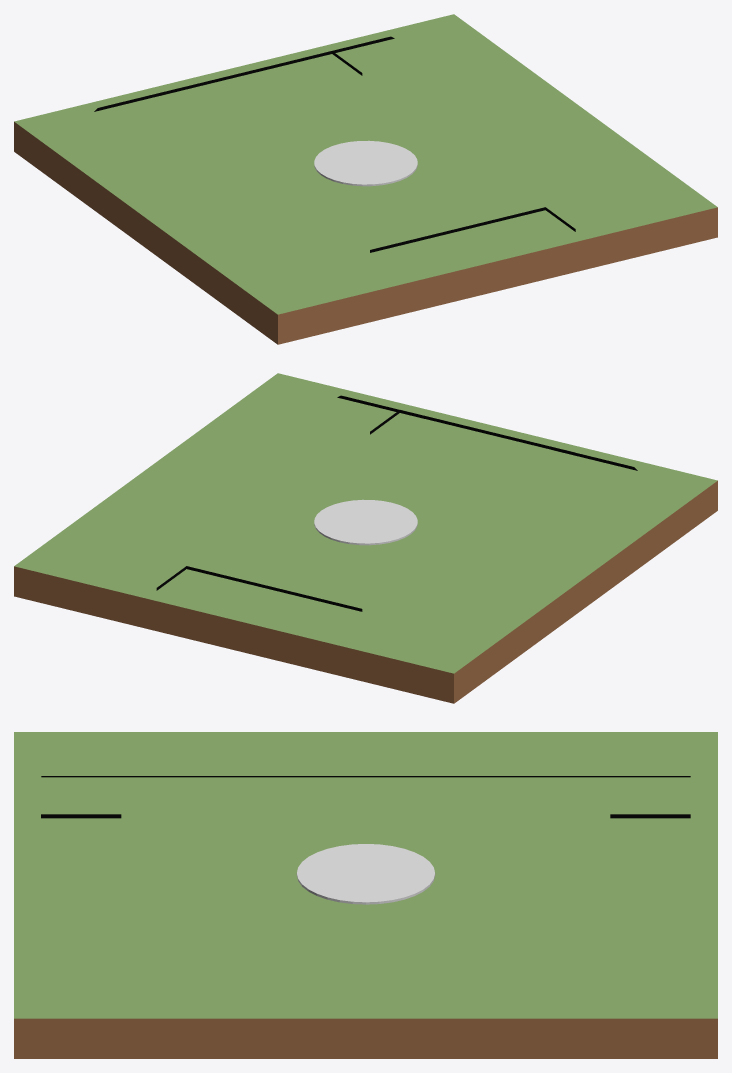
Rendered from ground_v2.gltf.
3 views of the same model, one above another, from view 1: azimuth 30°, elevation 25°; view 2: azimuth 150°, elevation 25°; view 3: azimuth 270°, elevation 25° (orthographic). The views are drawn at different scales.
Visible parts, largest first — view 1: Cube; view 2: Cube; view 3: Cube.
Part boxes in pixels (left/top/right/bottom): Cube: left=14, top=14, right=717, bottom=344; Cube: left=14, top=373, right=717, bottom=703; Cube: left=14, top=732, right=717, bottom=1058.
Bounding box in the file's own units: 56.68 × 4.09 × 58.86.
